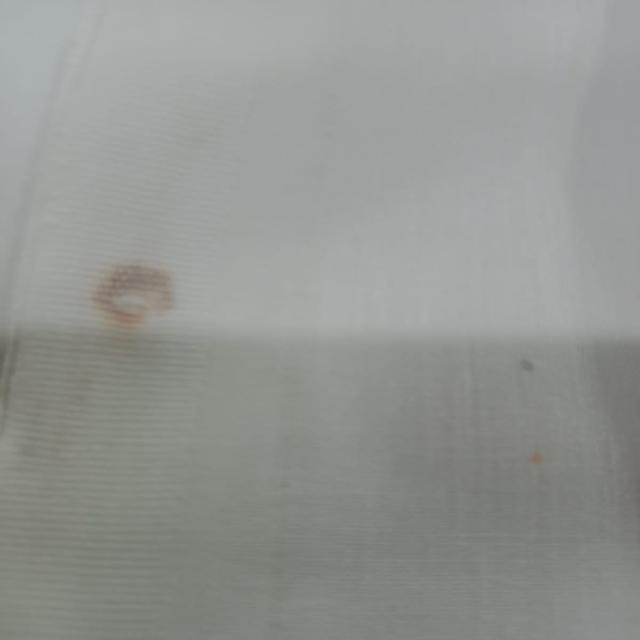stain: (75, 250, 193, 342), (500, 347, 558, 385), (514, 438, 564, 480)
